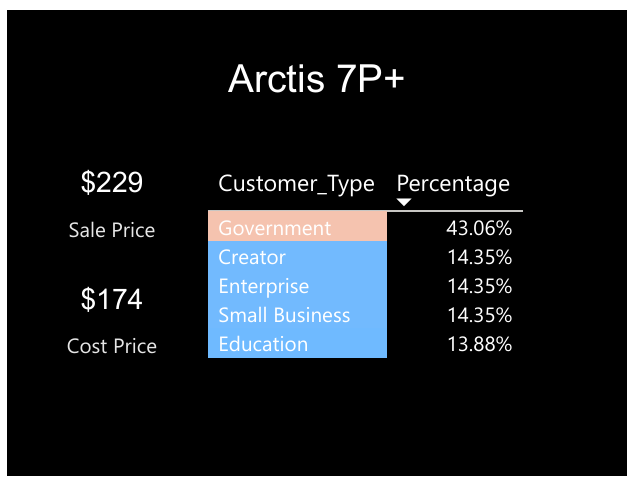

This screenshot's page, from the dashboard's own definition file:
{"tool":"powerbi","page":{"name":"Tooltip","canvas":[320,240],"ordinal":1},"visuals":[{"type":"card","fields":{"Values":["Max(Query1.Sale_Price)"]},"box":[0,68,108,60],"z":0},{"type":"card","fields":{"Values":["Max(Query1.Cost_Price)"]},"box":[0,128,108,60],"z":1000},{"type":"card","fields":{"Values":["Min(Query1.Product)"]},"box":[44,4,232,64],"z":2000},{"type":"tableEx","fields":{"Values":["Query1.Customer_Type","CountNonNull(Query1.Customer_Type)"]},"box":[98,75,203,127],"z":3000}]}

Visuals, with their boxes in screenshot pixels (x1, y1, x2, y2), scaled from the page's 320x240 canvas onto the 633x481 screenshot:
card - Max(Query1.Sale_Price): x1=0, y1=136, x2=214, y2=257
card - Max(Query1.Cost_Price): x1=0, y1=257, x2=214, y2=377
card - Min(Query1.Product): x1=87, y1=8, x2=546, y2=136
tableEx - Query1.Customer_Type x CountNonNull(Query1.Customer_Type): x1=194, y1=150, x2=595, y2=405
